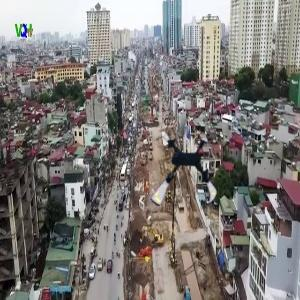drone: (143, 133, 226, 216)
